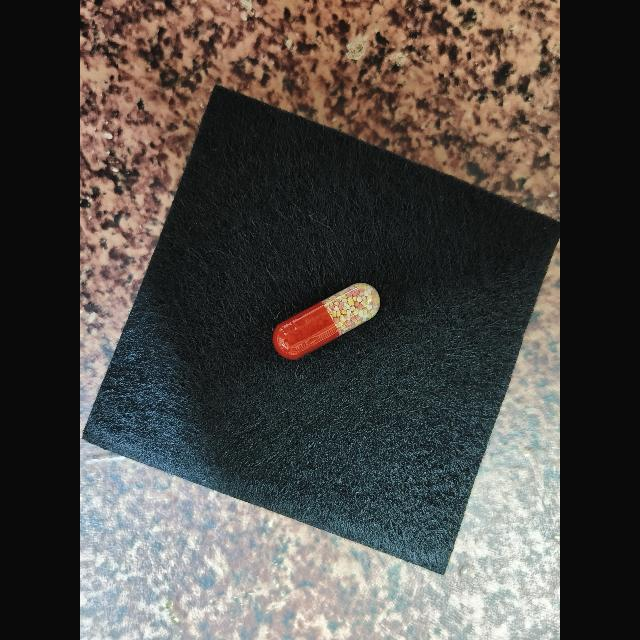Intact Capsule: (273, 283, 380, 360)
